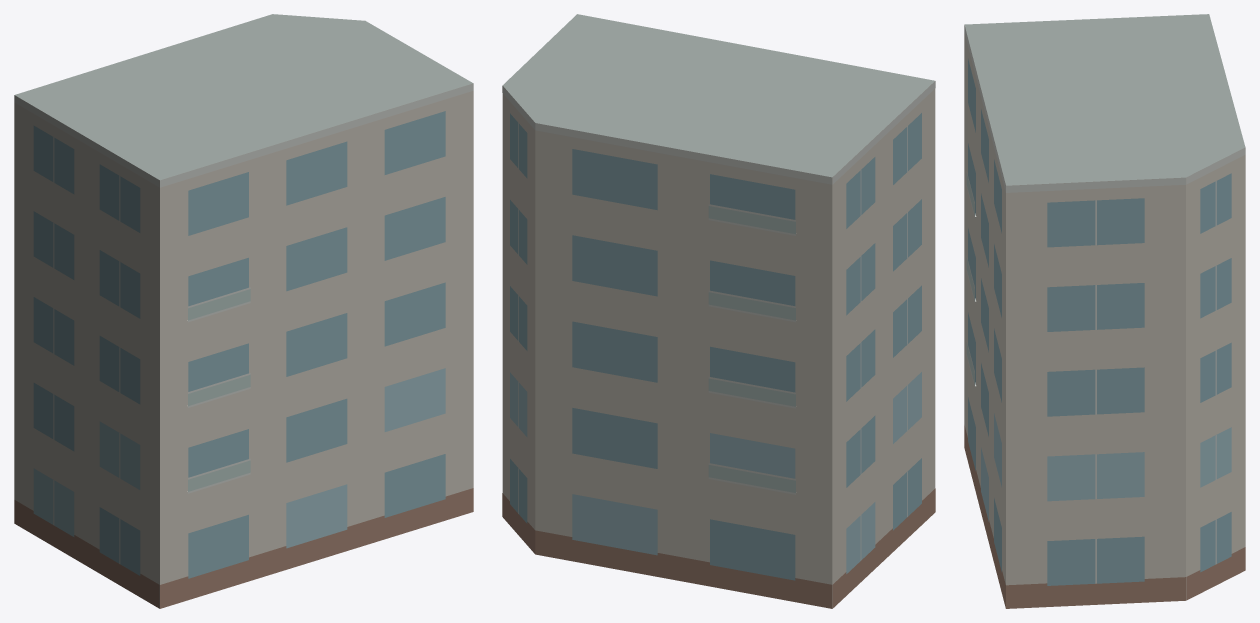
File: survey-upis-32621863.glb
3 renders of one model, left to right at view 1: azimuth 30°, elevation 25°; view 2: azimuth 150°, elevation 25°; view 3: azimuth 270°, elevation 25°, orthographic.
Visible parts, largest first — view 1: survey-upis-32621863.tmp; view 2: survey-upis-32621863.tmp; view 3: survey-upis-32621863.tmp.
Part boxes in pixels (<box>): survey-upis-32621863.tmp: <box>14,14,473,608</box>; survey-upis-32621863.tmp: <box>502,14,935,608</box>; survey-upis-32621863.tmp: <box>964,14,1245,608</box>.
Size of the model in its own units: 12.37 by 14.2 by 8.56.
